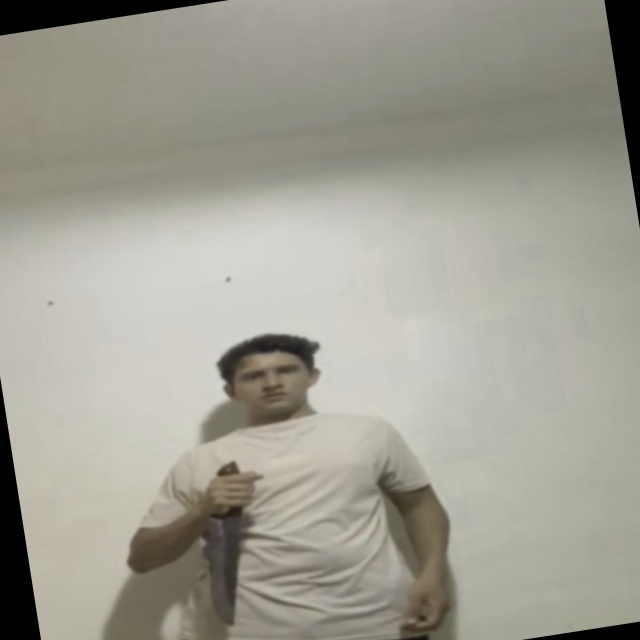Sharp-Object: (194, 511, 254, 626)
